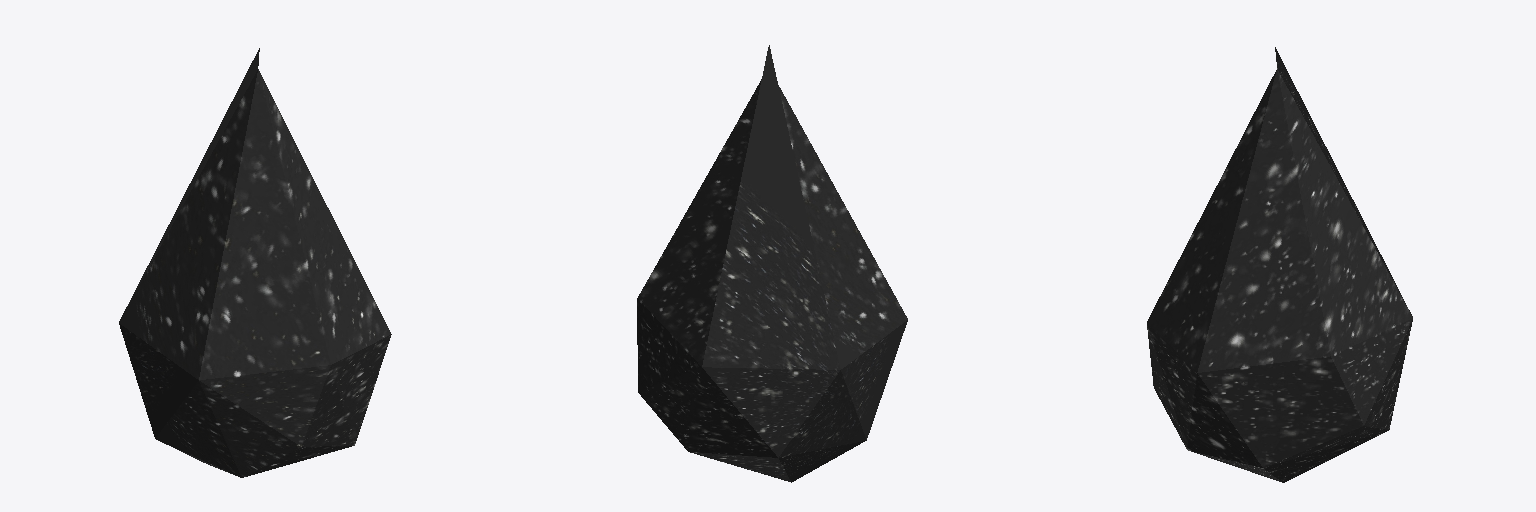
3 renders of one model, left to right at view 1: azimuth 30°, elevation 25°; view 2: azimuth 150°, elevation 25°; view 3: azimuth 270°, elevation 25°, orthographic.
Visible parts, largest first — view 1: Sphere; view 2: Sphere; view 3: Sphere.
Part boxes in pixels (bbox=[...]): Sphere: bbox=[119, 48, 391, 477]; Sphere: bbox=[637, 45, 907, 482]; Sphere: bbox=[1147, 47, 1412, 482].
Bounding box in the file's own units: 0.0271 × 0.0519 × 0.0298.
Materials: 1 (1 with a texture image).